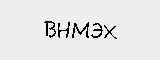В: (42, 17, 55, 42)
М: (71, 22, 90, 41)
Н: (56, 18, 73, 41)
Х: (103, 19, 118, 42)
Э: (90, 21, 104, 40)
